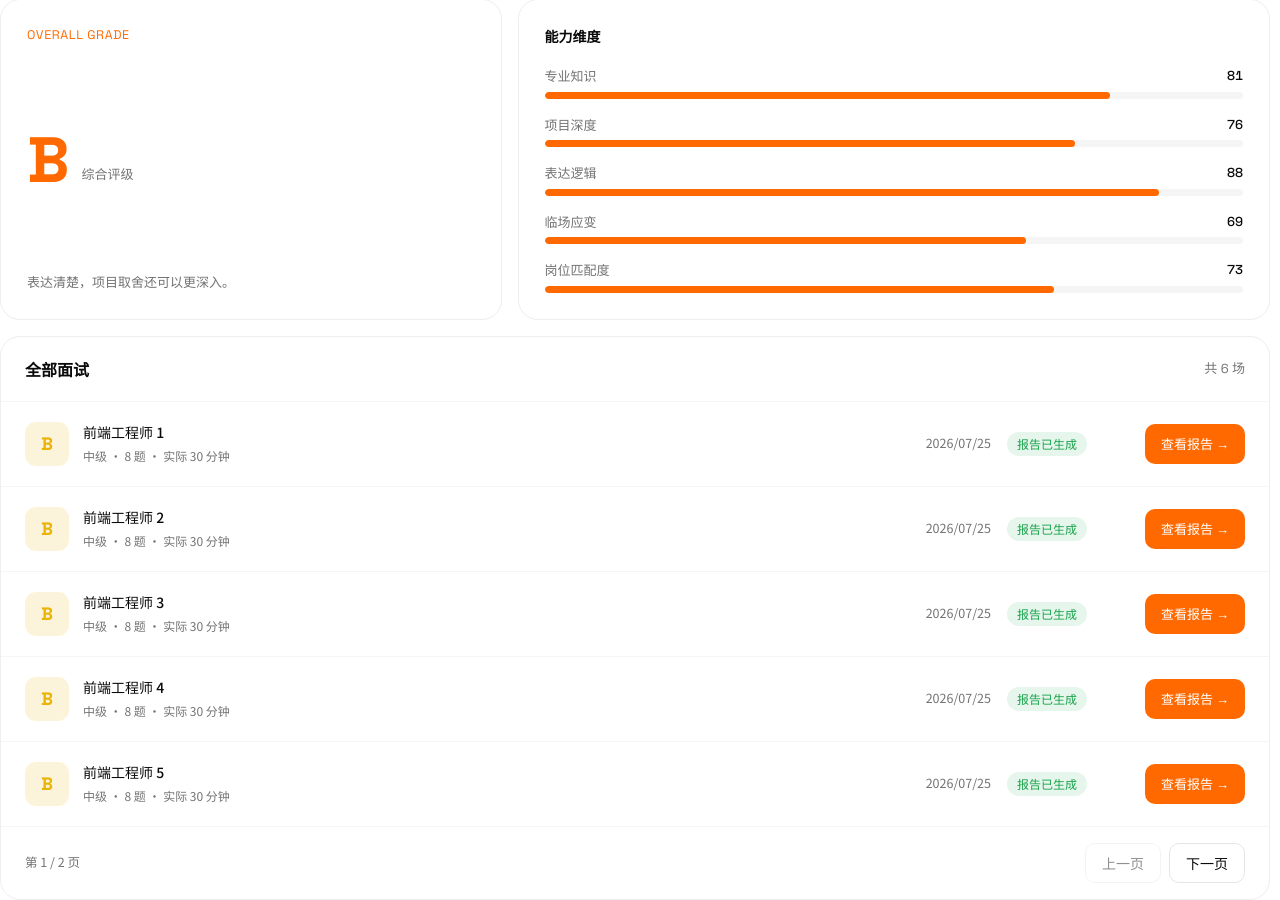
Test: InterviewsClient › paginates without keeping duplicate rows and exposes retained-page loading
This screenshot has width=1280, height=900.
(page scrolled)
Click the button "下一页" at (1207, 863), box [1169,843,1245,883]
(page scrolled)
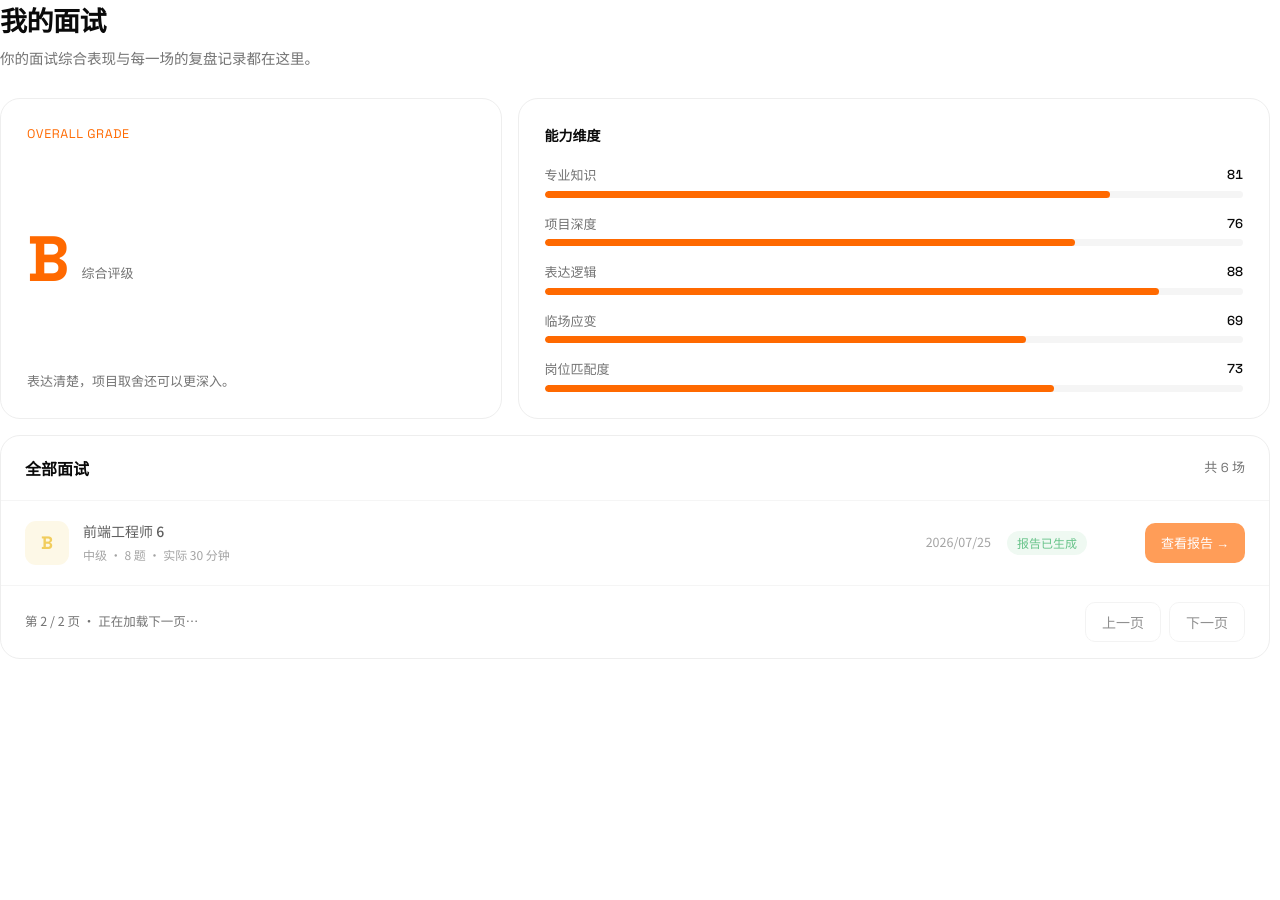
Expected: the heading "前端工程师 6" is shown, [83,521,164,541]
Expected: the heading "前端工程师 1" is gone
Expected: the message shows "正在加载下一页", [80,611,198,630]
